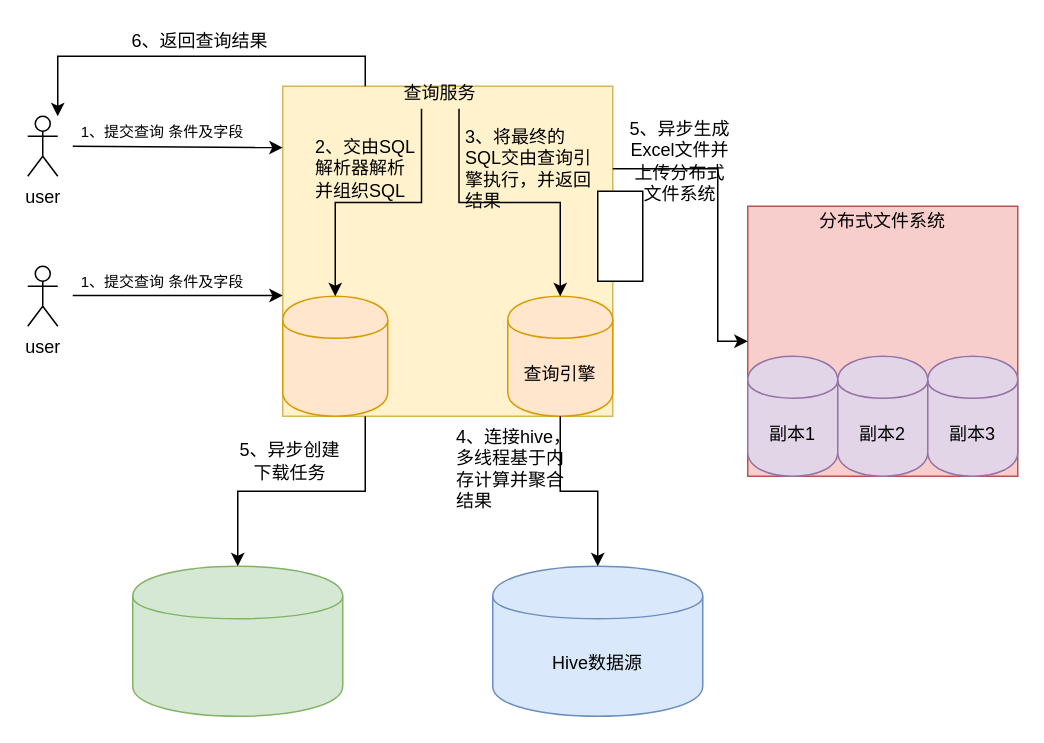
Image size: 1044x743. Some labels were removed from this diagram. The shapes that lost their labels are listed below. From the top down, each one's centre as x and y in pixels, then its label:
the point at 619,235: 池化HDFS连接
the point at 334,355: SQL解析器
the point at 237,640: MySql
